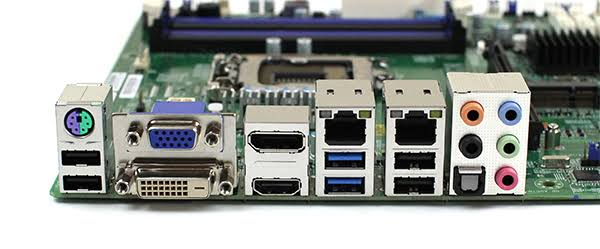Ethernet: (317, 107, 370, 152)
